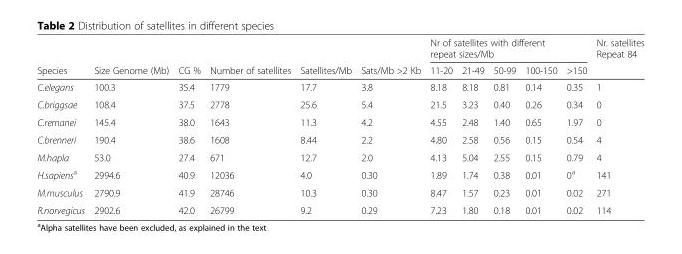table: (36, 36, 643, 215)
table column: (204, 36, 294, 215), (88, 36, 172, 215), (355, 36, 424, 215), (294, 36, 355, 215), (36, 36, 88, 215), (591, 36, 643, 215), (519, 36, 561, 215), (172, 36, 204, 215), (424, 36, 456, 215), (456, 36, 488, 215), (488, 36, 519, 215), (561, 36, 591, 215)
table column header: (36, 36, 643, 78)
table row: (36, 36, 643, 61), (36, 95, 643, 113), (36, 130, 643, 148), (36, 165, 643, 183), (36, 183, 643, 201), (36, 61, 643, 78), (36, 78, 643, 95), (36, 113, 643, 130), (36, 148, 643, 165), (36, 201, 643, 215)
table spanning cell: (424, 36, 591, 61), (204, 36, 294, 78), (88, 36, 172, 78), (355, 36, 424, 78), (294, 36, 355, 78), (36, 36, 88, 78), (591, 36, 643, 78), (172, 36, 204, 78)
